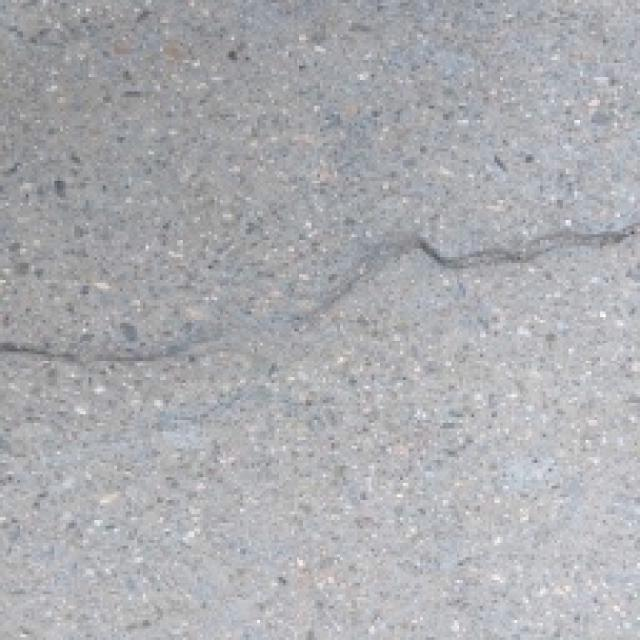SurfaceCrack: (0, 200, 630, 398)
